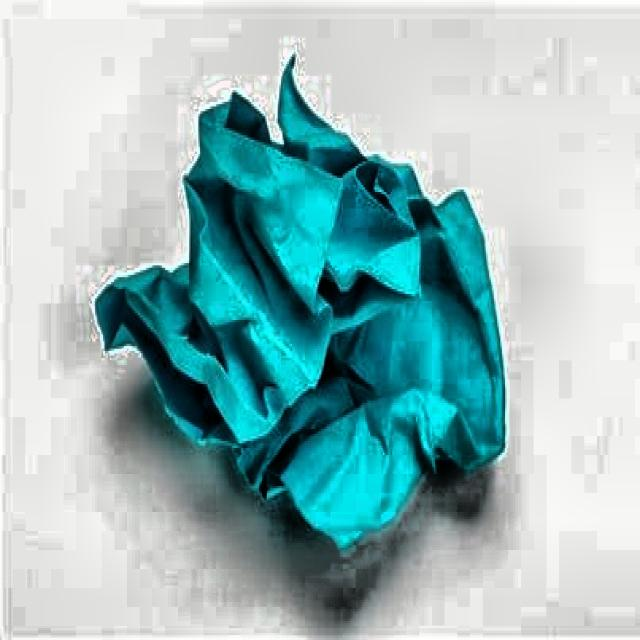Paper: (80, 45, 514, 531)
